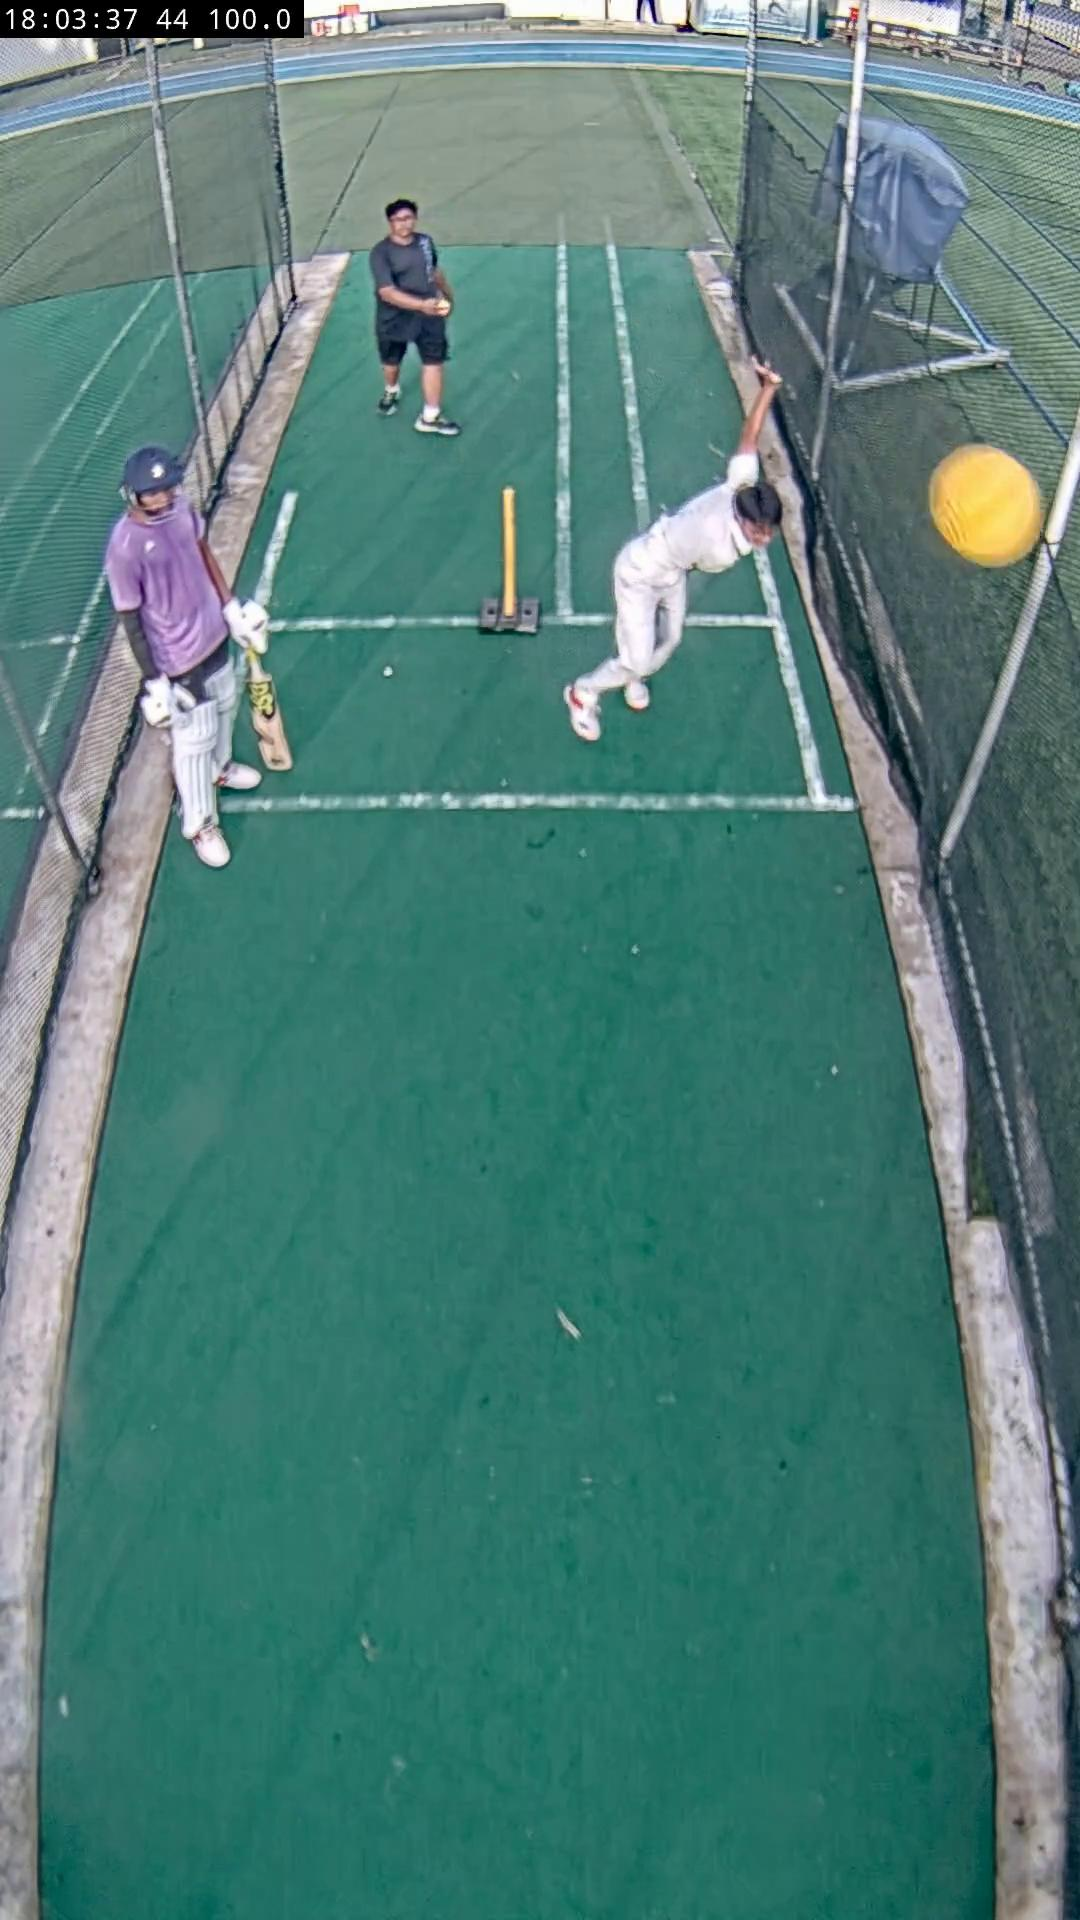ball: (930, 443, 1043, 566)
stumps: (476, 488, 541, 634)
